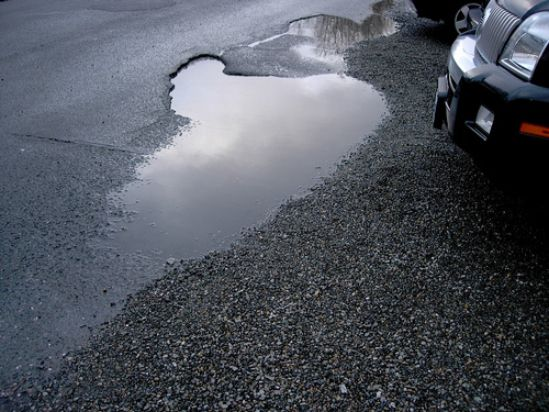pothole: (104, 50, 394, 281), (283, 10, 409, 70)
